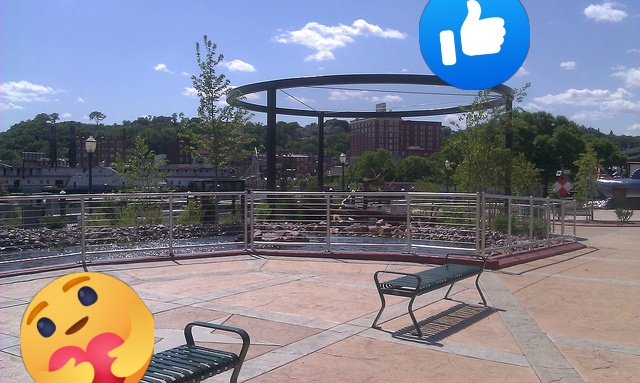care: (20, 272, 154, 383)
like: (419, 0, 530, 90)
